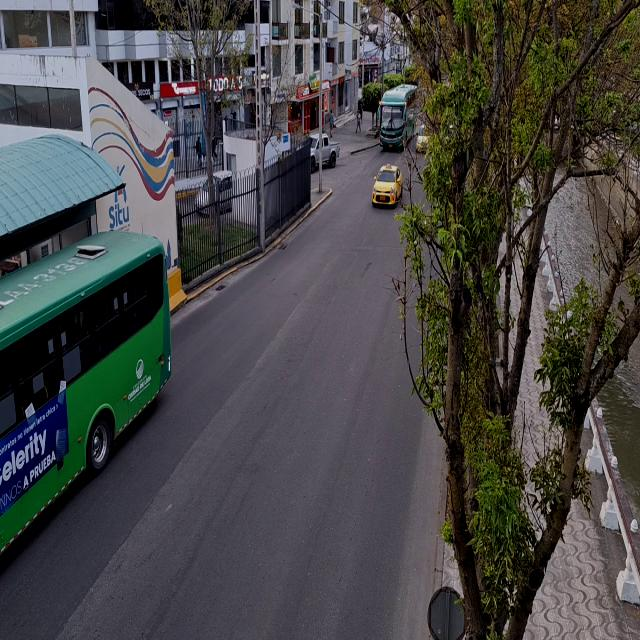BUS: (0, 232, 160, 576), (382, 89, 415, 153)
